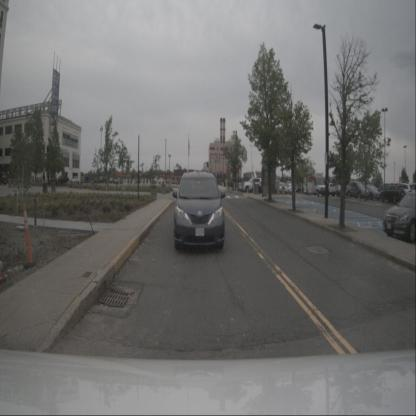cone: (22, 197, 37, 268)
